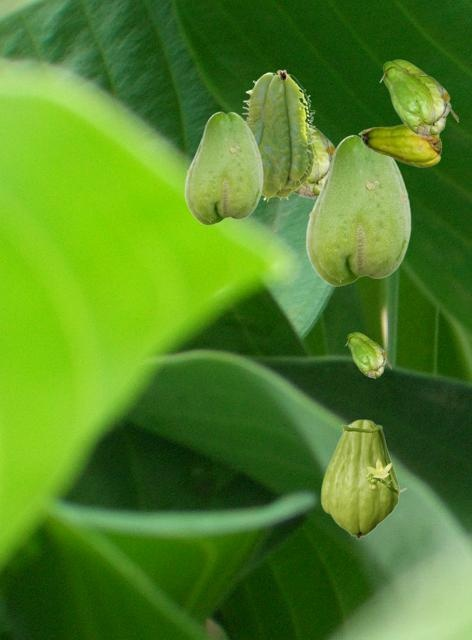sayote: (305, 134, 410, 285), (320, 419, 406, 538), (241, 69, 317, 201), (184, 111, 262, 224), (379, 59, 457, 137), (358, 123, 440, 166), (292, 124, 335, 198), (345, 332, 390, 377)
